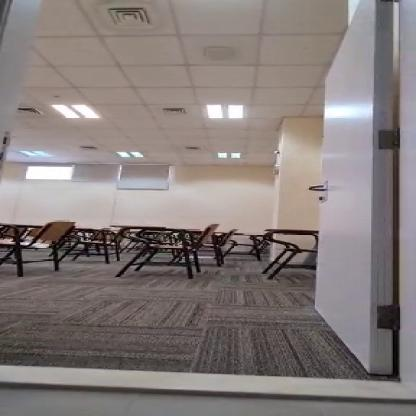open: (0, 0, 416, 402)
